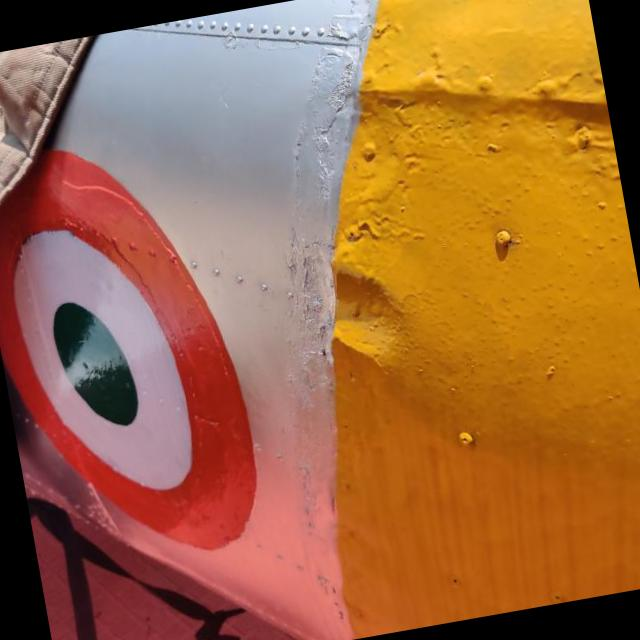Dent: (334, 247, 436, 382)
